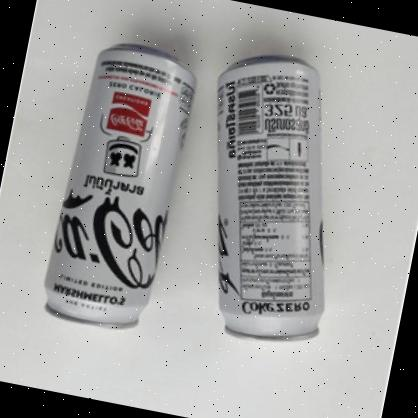can: (168, 45, 372, 356), (33, 35, 204, 340)
